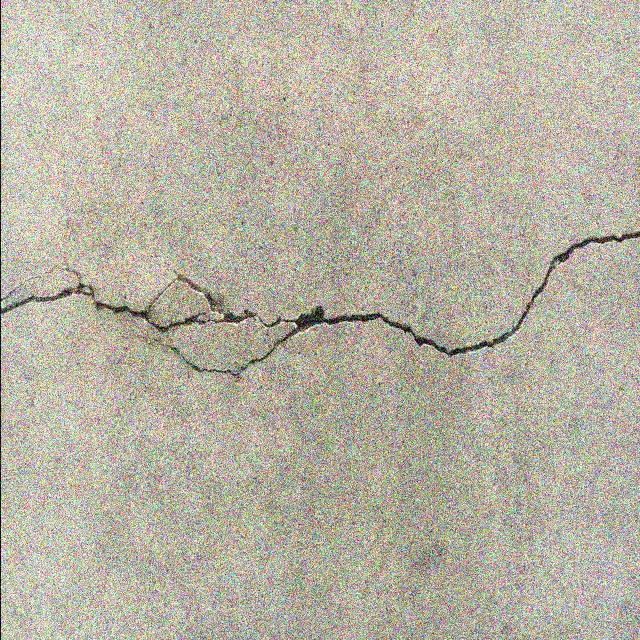SurfaceCrack: (0, 200, 639, 404)
